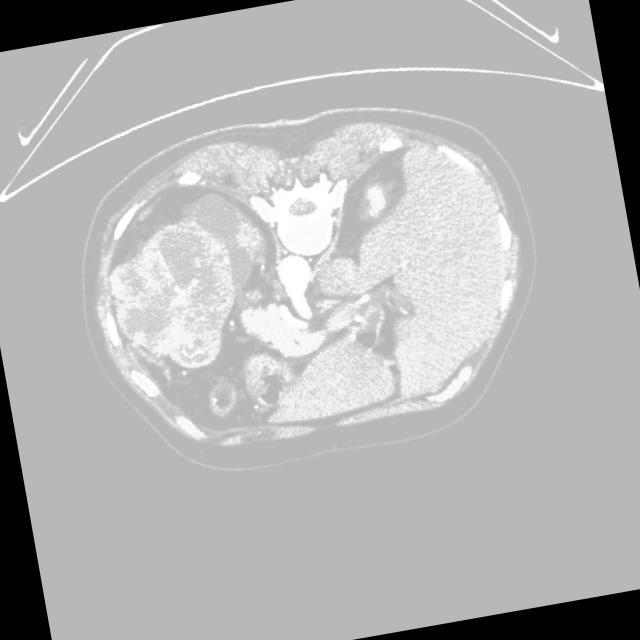TUMOR: (85, 219, 327, 387)
